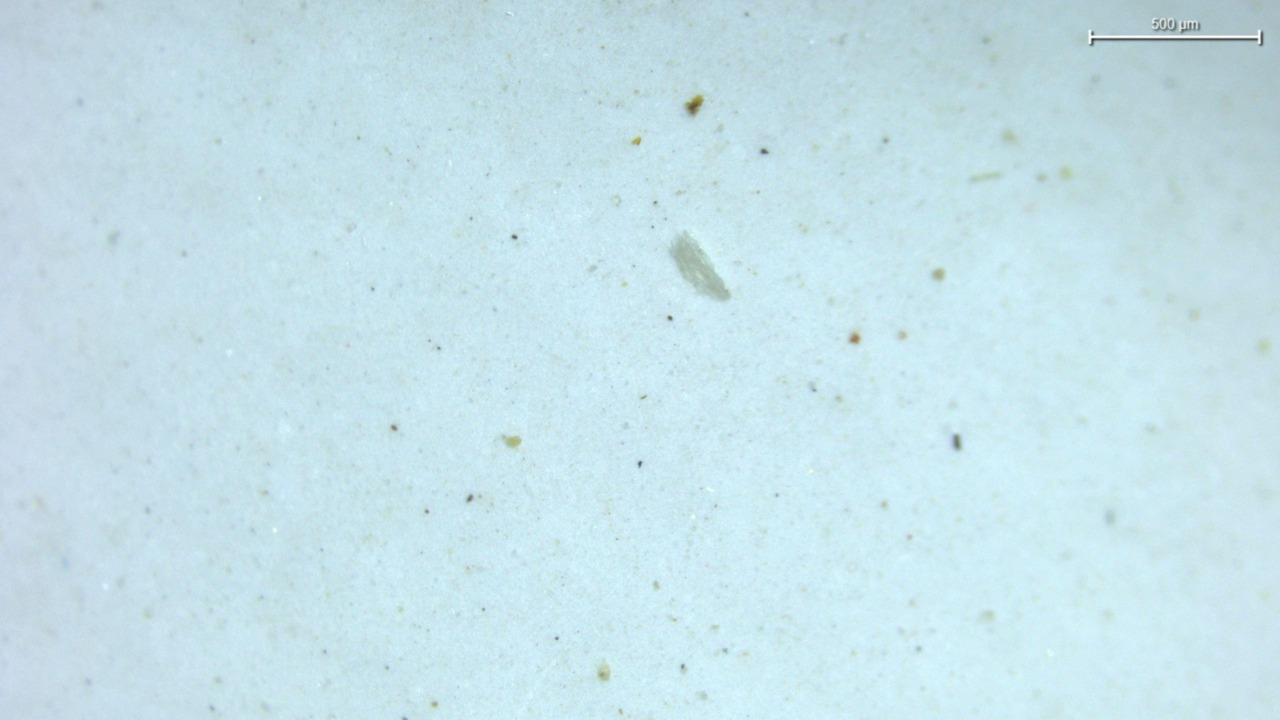microplastic_fragment: (669, 232, 730, 300)
